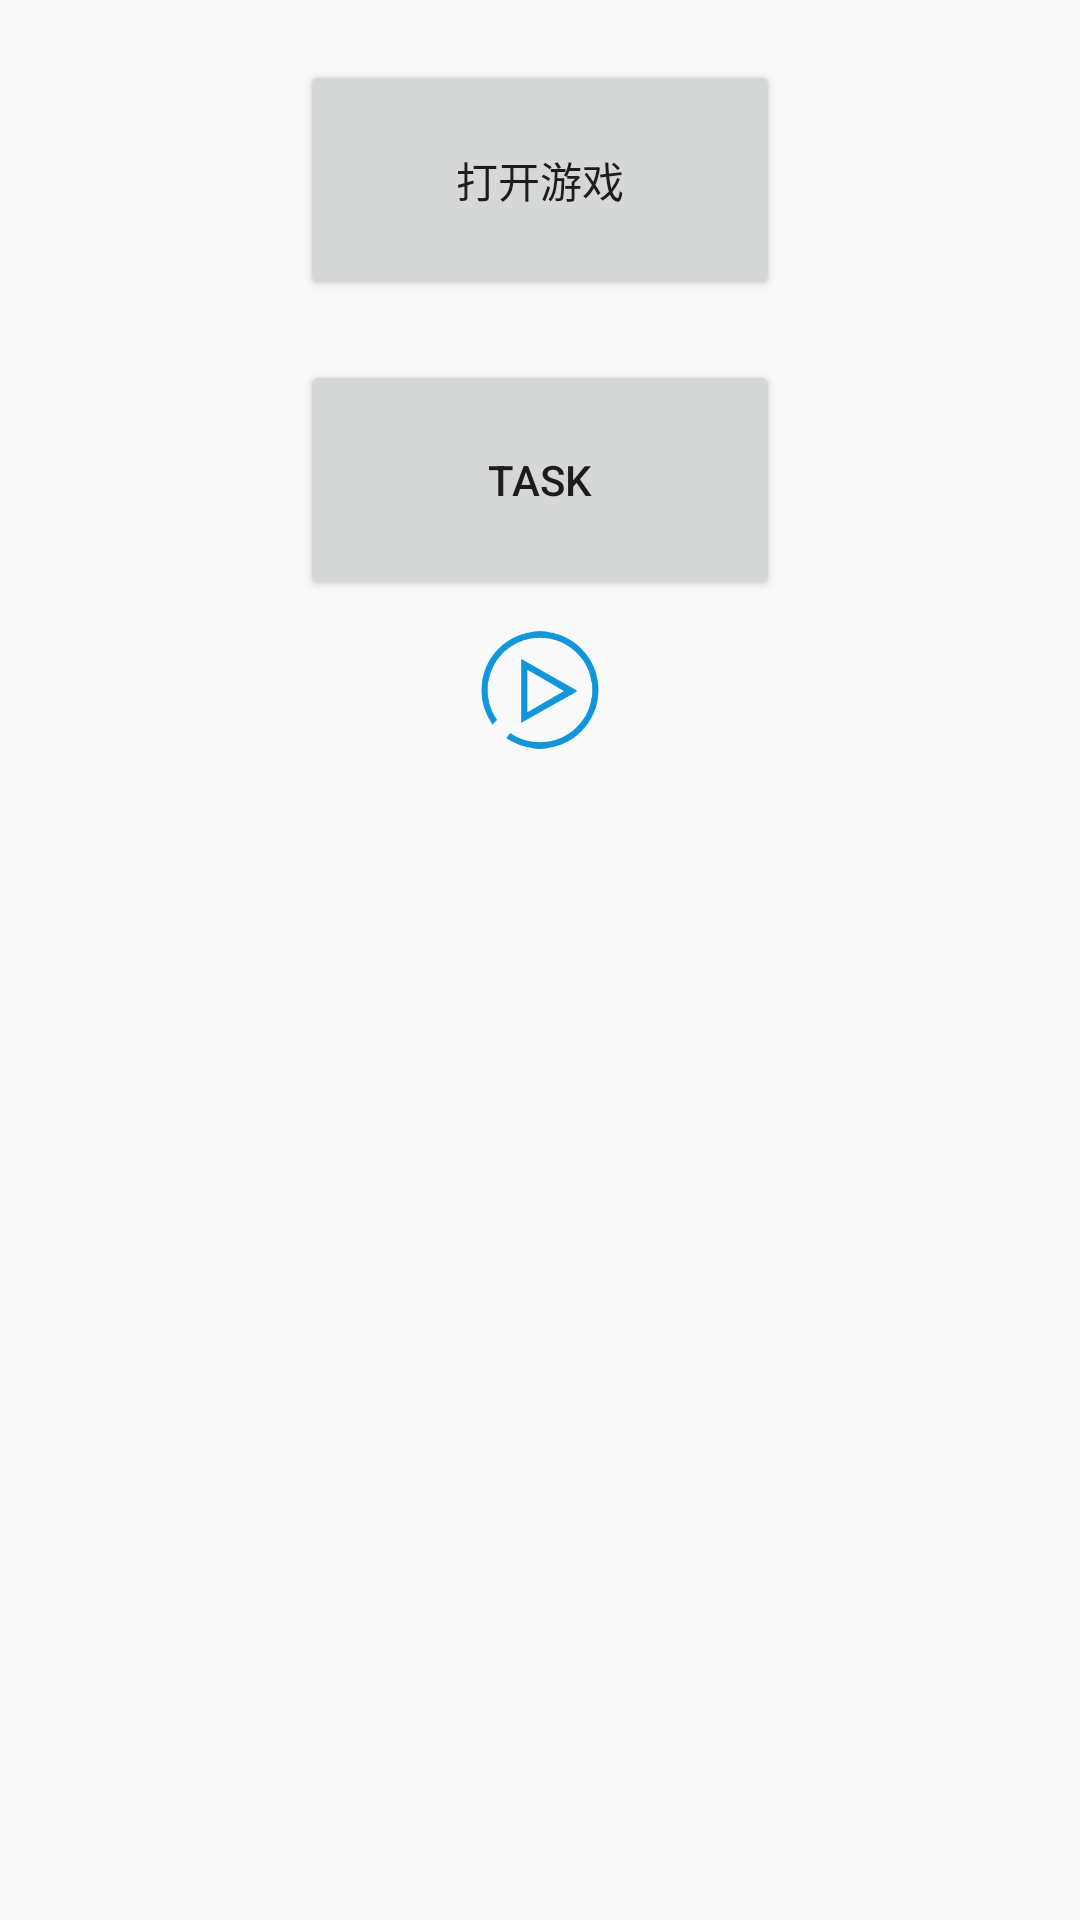

Screen size 1080w x 1920h. Icon name, then its box in pixels as bbox=(x1, y1, x2, y2):
play: bbox=(481, 631, 599, 749)
